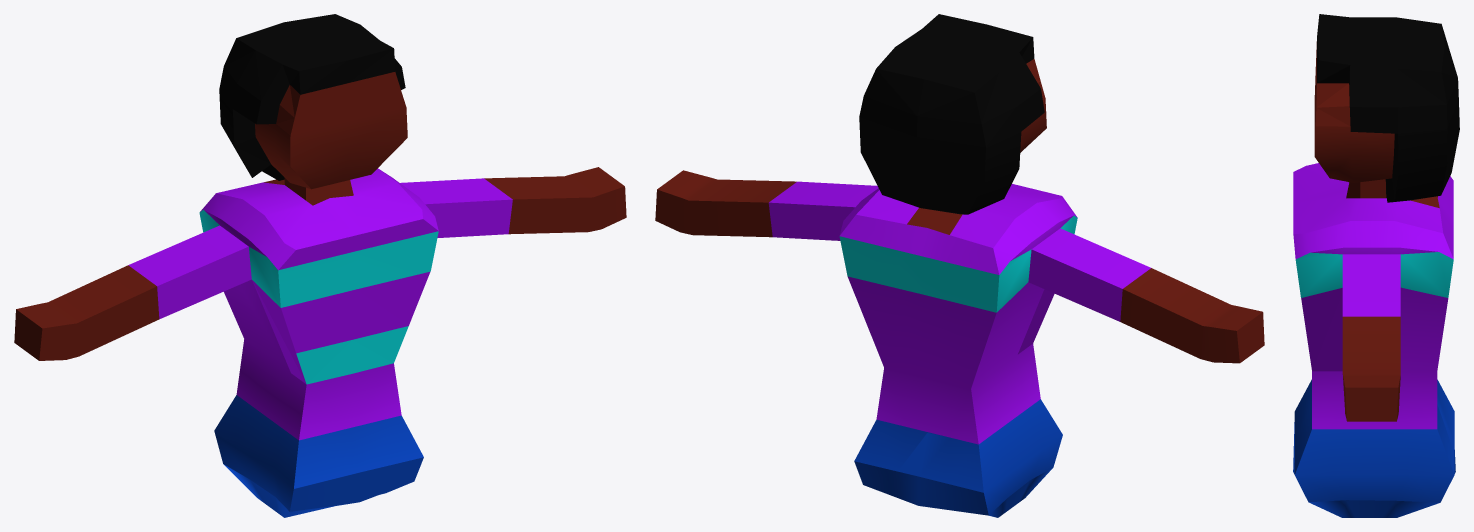
The model's file is CHAR_MaleB.FBX.
3 renders of one model, left to right at view 1: azimuth 30°, elevation 25°; view 2: azimuth 150°, elevation 25°; view 3: azimuth 270°, elevation 25°, orthographic.
Parts seen in each view (by area): view 1: CHAR_Gay; view 2: CHAR_Gay; view 3: CHAR_Gay.
Part boxes in pixels (<box>): CHAR_Gay: <box>14,14,626,517</box>; CHAR_Gay: <box>655,14,1264,517</box>; CHAR_Gay: <box>1293,14,1459,517</box>.
Bounding box in the file's own units: 41.25 × 30.48 × 10.1.
